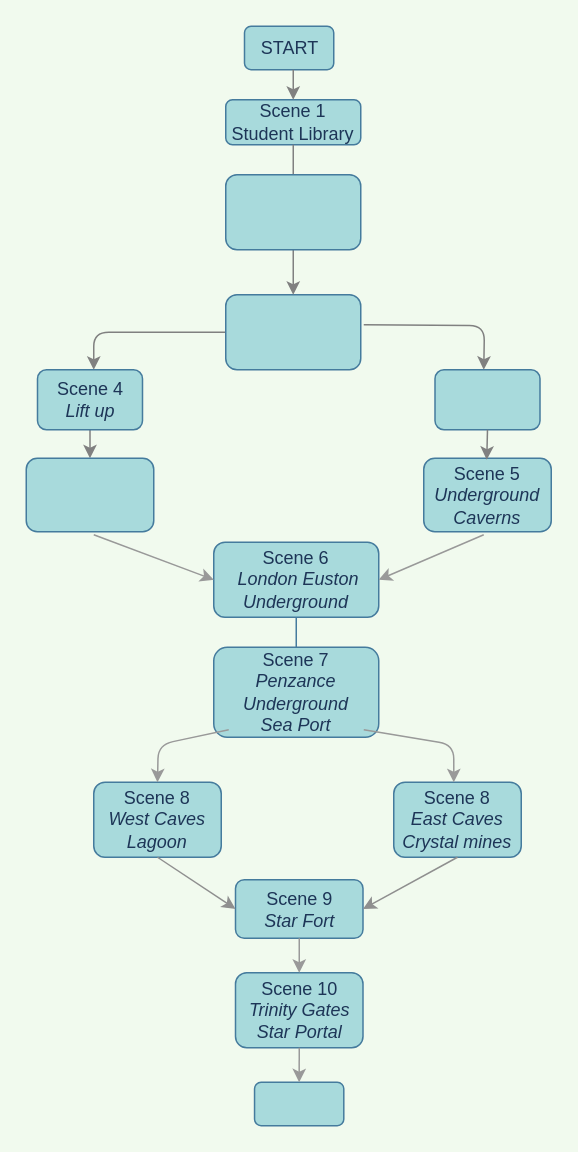
The diagram is 578 pixels wide and 1152 high, and some of its shapes have lost their labels. Each missing label, with the centre of its shape:
END: point 298,1103
Scene 2 Escape to the tunnels below: point 292,211
Scene 3 Security Door Bio Entry: point 292,331
Scene 4 Lift down: point 487,399
Scene 5 Heating sysytems: point 89,494
